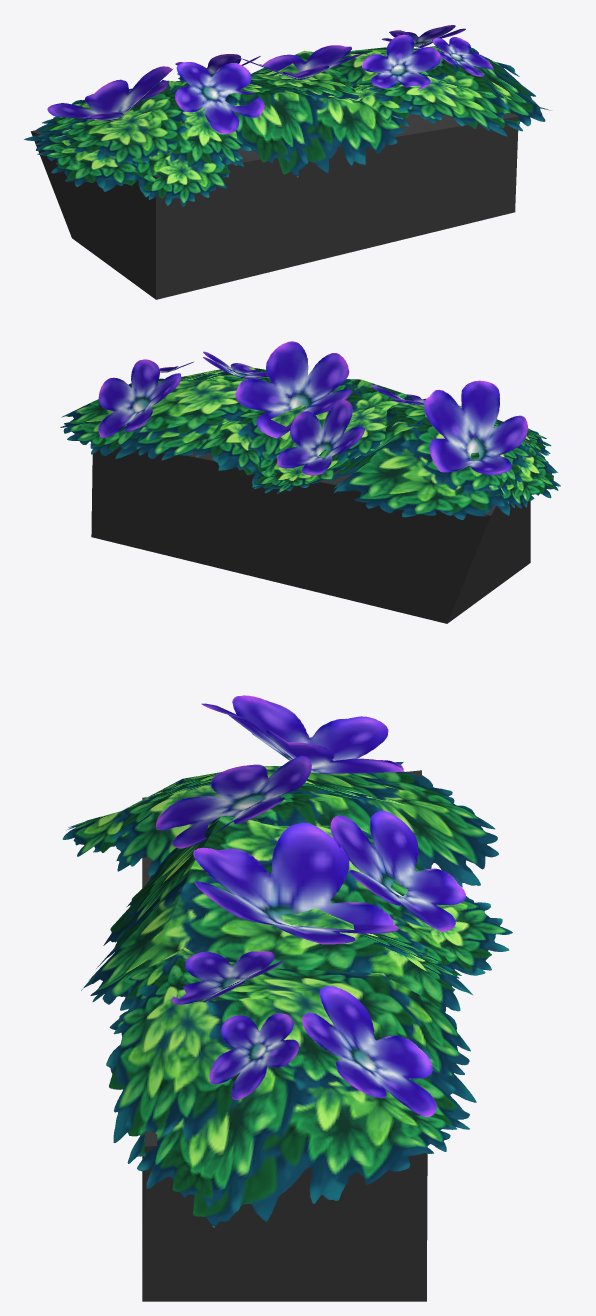
File: SM_PROP_PLANT_pot_v1_01.FBX
3 renders of one model, top to bottom at view 1: azimuth 30°, elevation 25°; view 2: azimuth 150°, elevation 25°; view 3: azimuth 270°, elevation 25°, orthographic. The views are drawn at different scales.
Visible parts, largest first — view 1: SM_PROP_PLANT_pot_v1_01; view 2: SM_PROP_PLANT_pot_v1_01; view 3: SM_PROP_PLANT_pot_v1_01.
Part boxes in pixels (bbox=[...]): SM_PROP_PLANT_pot_v1_01: bbox=[24, 25, 550, 299]; SM_PROP_PLANT_pot_v1_01: bbox=[60, 341, 560, 623]; SM_PROP_PLANT_pot_v1_01: bbox=[62, 695, 512, 1301].
Bounding box in the file's own units: 106 × 59.85 × 40.43.
